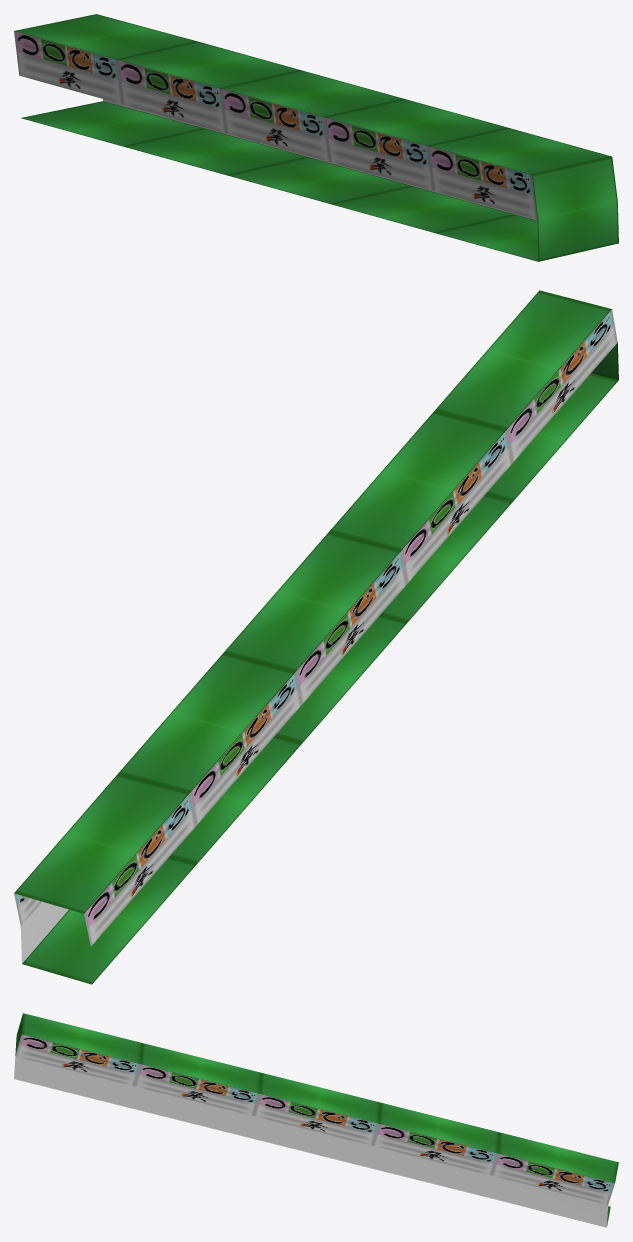
File: Walls_2.fbx
The picture shows the model from 3 angles, top to bottom: view 1: azimuth 30°, elevation 25°; view 2: azimuth 150°, elevation 25°; view 3: azimuth 270°, elevation 25°; orthographic projection. The views are drawn at different scales.
Visible parts, largest first — view 1: polySurface18; view 2: polySurface18; view 3: polySurface18.
Part boxes in pixels (x1=…): polySurface18: x1=14, y1=14, x2=618, y2=261; polySurface18: x1=14, y1=290, x2=618, y2=984; polySurface18: x1=14, y1=1013, x2=618, y2=1227.
Size of the model in its own units: 2.64 by 8.21 by 24.08.
